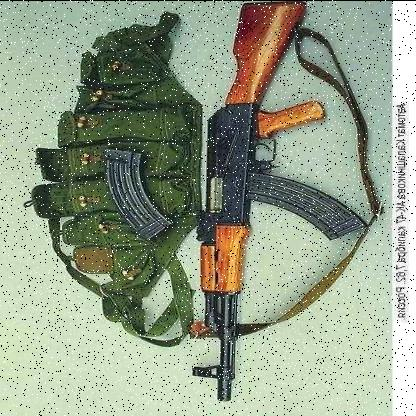rifle: (189, 1, 372, 408)
